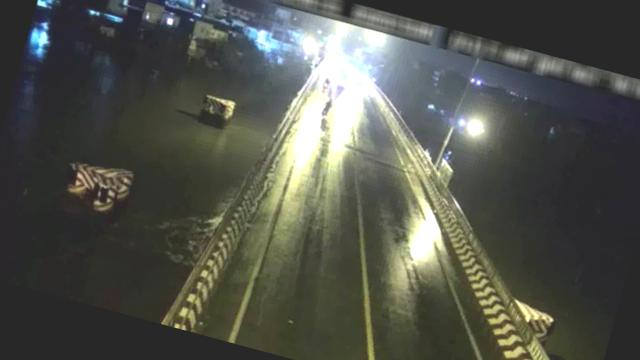Bike: (320, 96, 334, 119)
